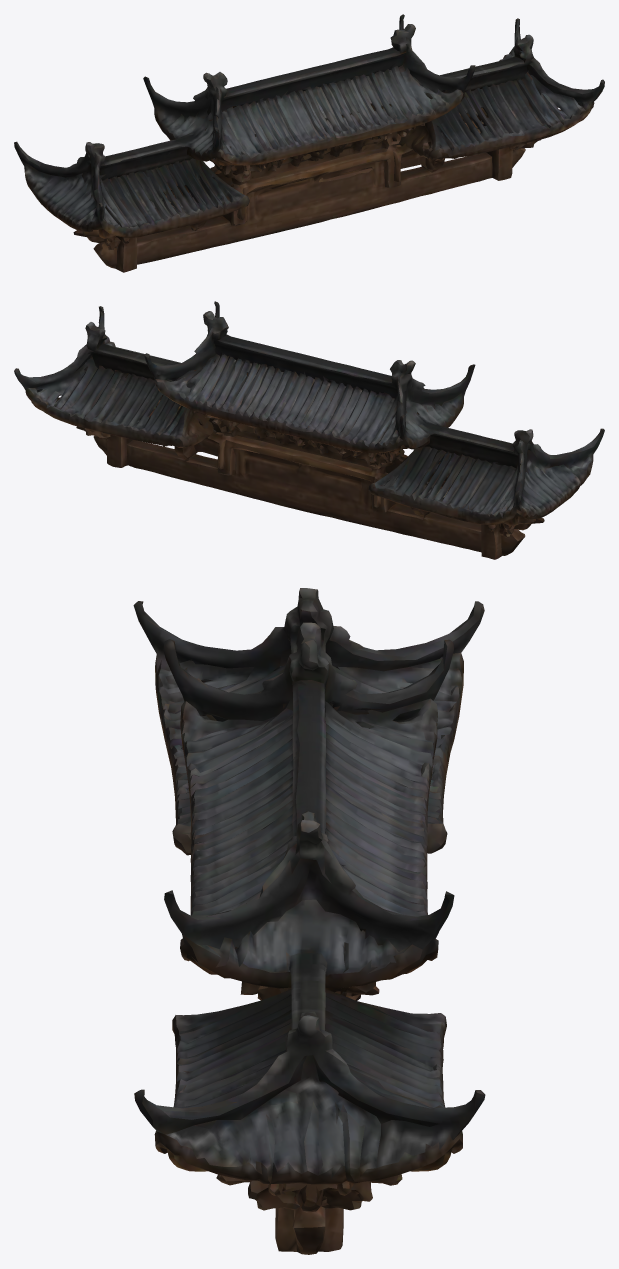
File: door-canopy.glb
3 views of the same model, one above another, from view 1: azimuth 30°, elevation 25°; view 2: azimuth 150°, elevation 25°; view 3: azimuth 270°, elevation 25° (orthographic). The views are drawn at different scales.
Parts seen in each view (by area): view 1: geometry_0; view 2: geometry_0; view 3: geometry_0.
Part boxes in pixels (left/top/right/bottom): geometry_0: left=14, top=14, right=604, bottom=272; geometry_0: left=14, top=301, right=604, bottom=559; geometry_0: left=133, top=588, right=485, bottom=1254.
Size of the model in its own units: 1 by 0.324 by 0.3031.
1 material, 1 textured.
